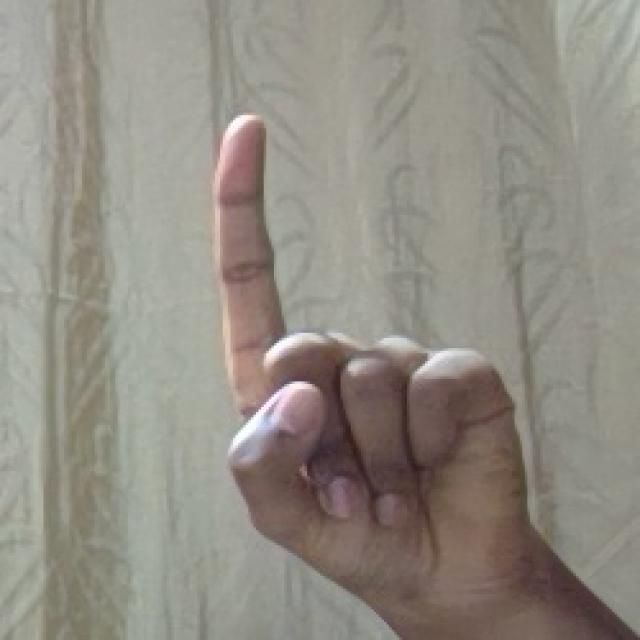Numeric-1: (204, 104, 516, 611)
